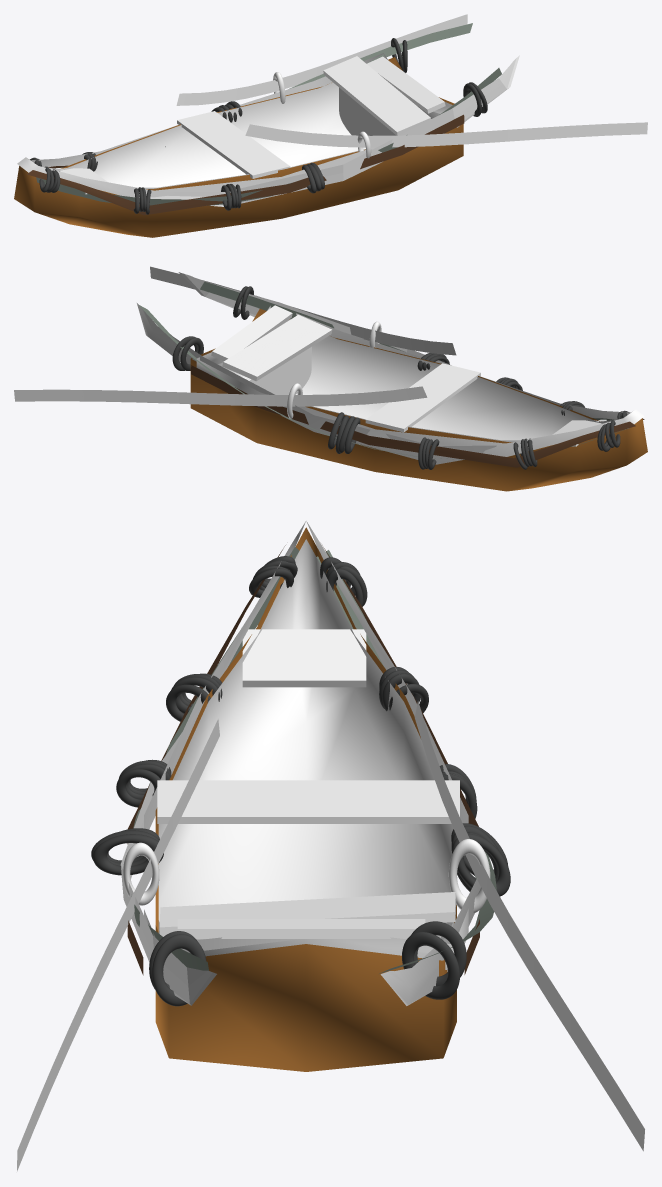
Rendered from boat_small.glb.
The picture shows the model from 3 angles, top to bottom: view 1: azimuth 30°, elevation 25°; view 2: azimuth 150°, elevation 25°; view 3: azimuth 270°, elevation 25°; orthographic projection. The views are drawn at different scales.
Parts seen in each view (by area): view 1: Cube, Cube.008, BezierCurve.002, Cube.002, Cube.001, Cube.006, Cube.003, Cube.007, BezierCurve.003, Cube.009, Cube.004, BezierCurve (+2 smaller); view 2: Cube, Cube.008, BezierCurve.003, Cube.006, Cube.002, Cube.007, Cube.003, Cube.005, BezierCurve.002, Cube.009, Cube.004, Cube.001 (+4 smaller); view 3: Cube.008, Cube, Cube.003, Cube.010, Cube.002, BezierCurve.003, Cube.006, Cube.009, BezierCurve.002, Cube.001, Cube.005, Cube.007 (+9 smaller).
Boxes of the visible parts, <box> form: Cube: <box>14,57,463,237</box>; Cube.008: <box>43,82,439,188</box>; BezierCurve.002: <box>245,122,647,147</box>; Cube.002: <box>323,56,430,135</box>; Cube.001: <box>150,55,519,206</box>; Cube.006: <box>17,53,454,197</box>; Cube.003: <box>177,111,290,178</box>; Cube.007: <box>27,114,464,215</box>; BezierCurve.003: <box>176,14,467,105</box>; Cube.009: <box>366,56,445,113</box>; Cube.004: <box>339,87,396,135</box>; BezierCurve: <box>36,68,501,205</box>; Cube: <box>190,309,647,491</box>; Cube.008: <box>218,319,616,441</box>; BezierCurve.003: <box>14,386,427,406</box>; Cube.006: <box>196,306,644,456</box>; Cube.002: <box>222,314,332,381</box>; Cube.007: <box>191,365,644,467</box>; Cube.003: <box>365,363,480,432</box>; Cube.005: <box>137,303,496,464</box>; BezierCurve.002: <box>150,266,456,355</box>; Cube.009: <box>211,305,292,361</box>; Cube.004: <box>246,346,311,394</box>; Cube.001: <box>178,272,451,365</box>; Cube.008: <box>158,539,453,958</box>; Cube: <box>155,527,456,1071</box>; Cube.003: <box>157,780,459,823</box>; Cube.010: <box>242,629,366,687</box>; Cube.002: <box>159,892,456,936</box>; BezierCurve.003: <box>414,701,644,1151</box>; Cube.006: <box>144,521,468,969</box>; Cube.009: <box>177,919,425,938</box>; BezierCurve.002: <box>17,719,219,1171</box>; Cube.001: <box>120,700,216,1005</box>; Cube.005: <box>380,878,480,1005</box>; Cube.007: <box>127,545,479,975</box>.
Size of the model in its own units: 10.04 by 1.83 by 4.86.
